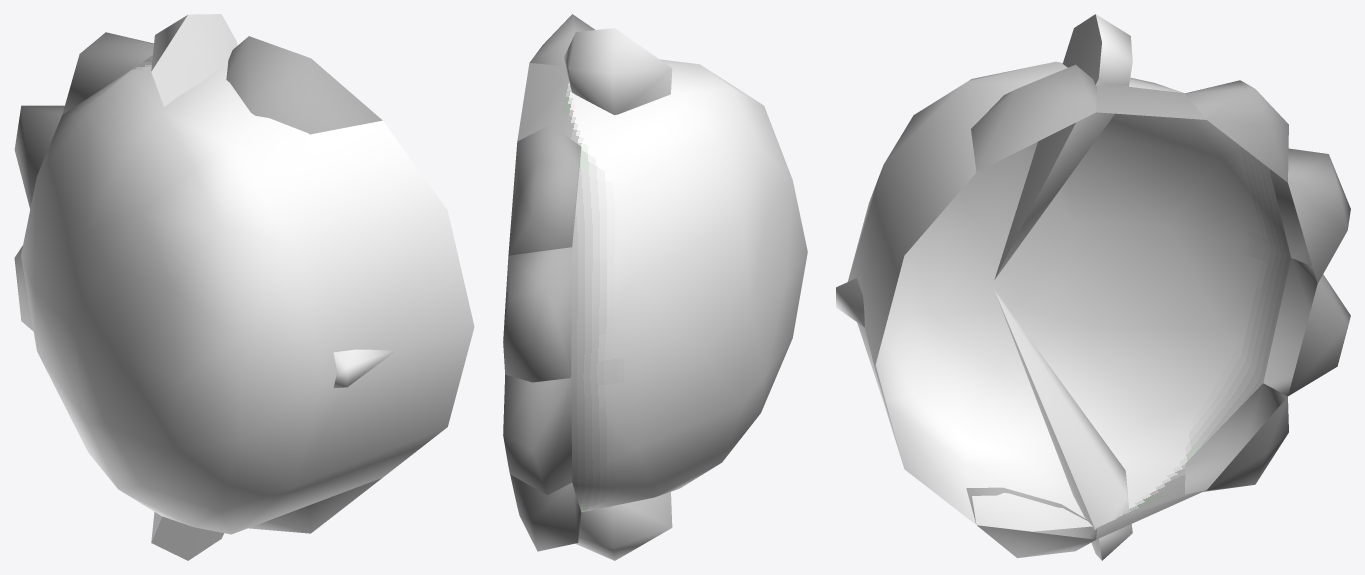
The model's file is boy15b.dae.
3 views of the same model, side by side, from view 1: azimuth 30°, elevation 25°; view 2: azimuth 150°, elevation 25°; view 3: azimuth 270°, elevation 25° (orthographic). The views are drawn at different scales.
Visible parts, largest first — view 1: boy15b; view 2: boy15b; view 3: boy15b.
Part boxes in pixels (x1=…): boy15b: x1=14, y1=14, x2=474, y2=560; boy15b: x1=503, y1=14, x2=807, y2=560; boy15b: x1=836, y1=14, x2=1350, y2=560.
Size of the model in its own units: 15.5 by 26.71 by 23.08.
Materials: 3 (1 with a texture image).
